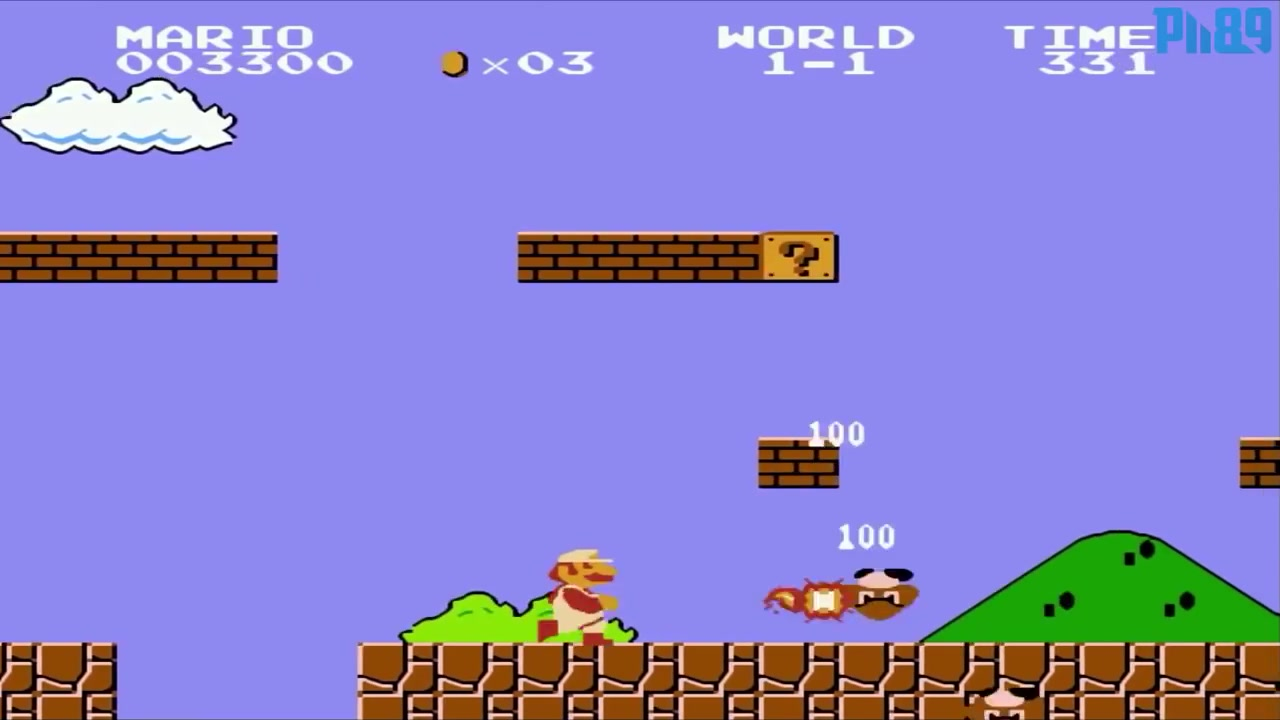mario: (537, 542, 615, 658)
